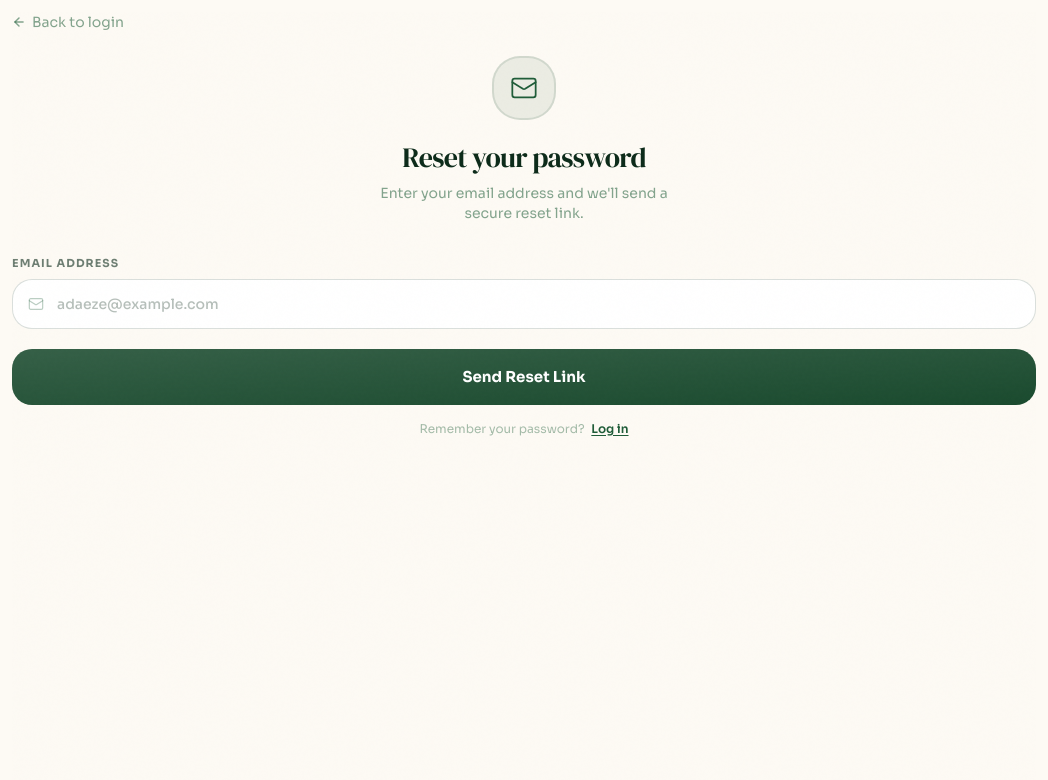
Test: ForgotPassword › Sent View › shows sent view after 1500ms with valid email
Type "ada@test.com" into the field with placeholder "adaeze@example.com" at x=524, y=304, box [12, 279, 1036, 329]
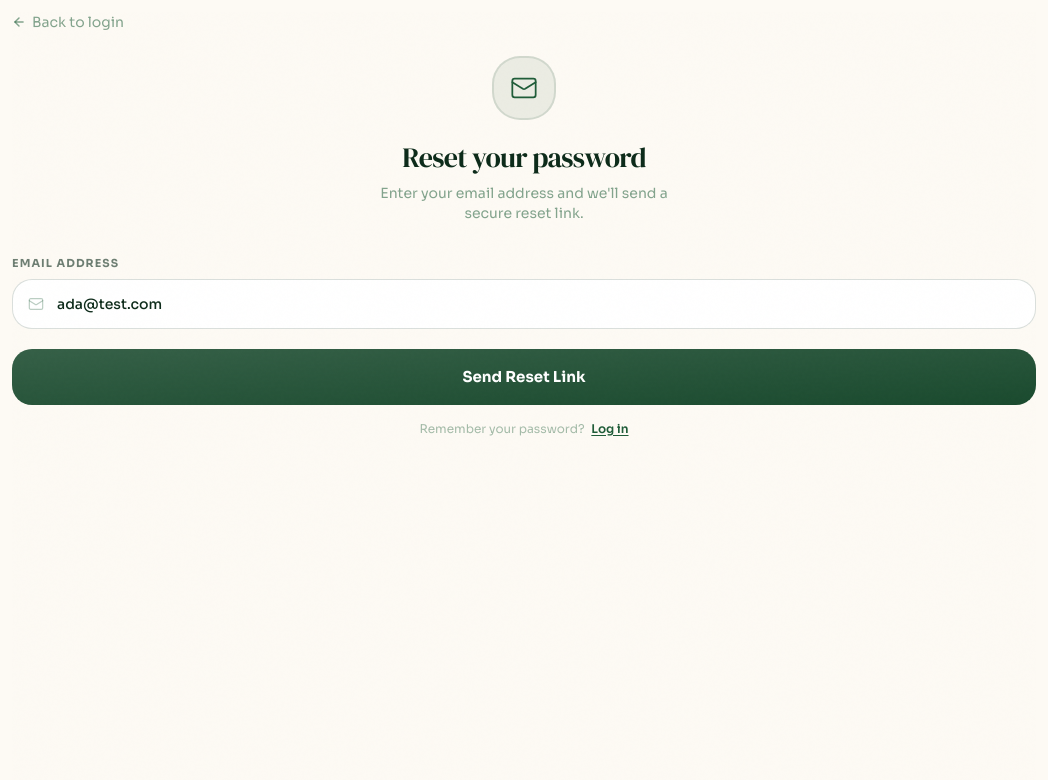
Click the button "Send Reset Link" at x=524, y=377, box [12, 349, 1036, 405]
Wait 1500 ms
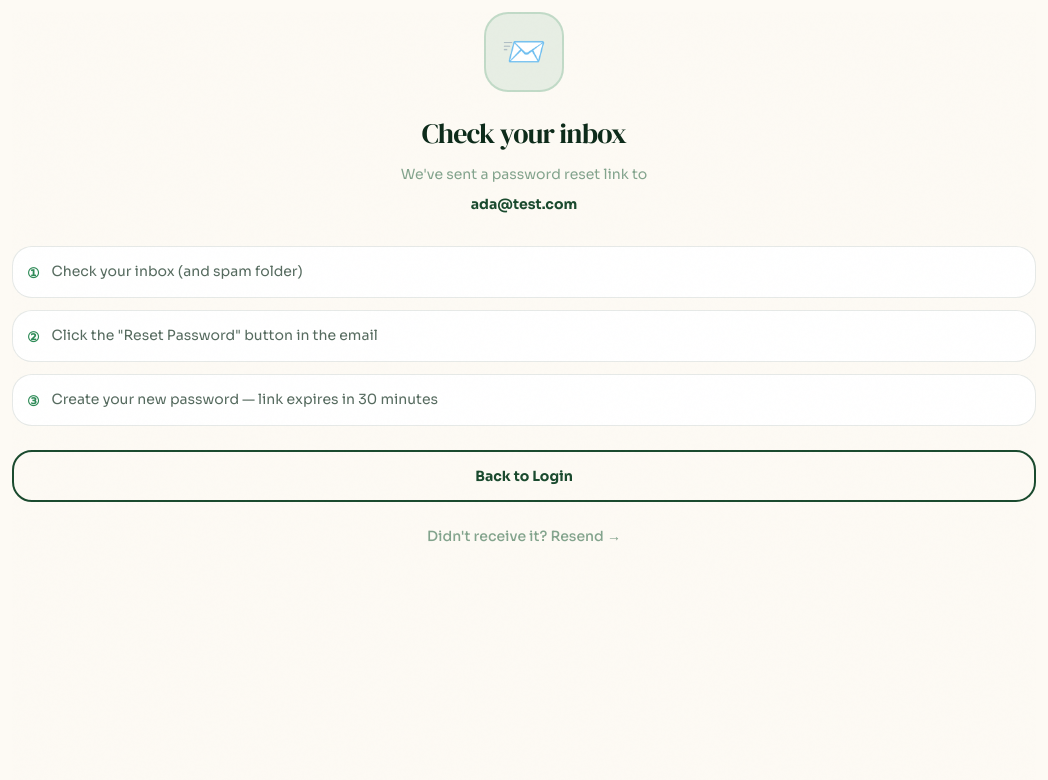
expect the heading "Check your inbox" is shown: met, box [422, 114, 626, 152]
